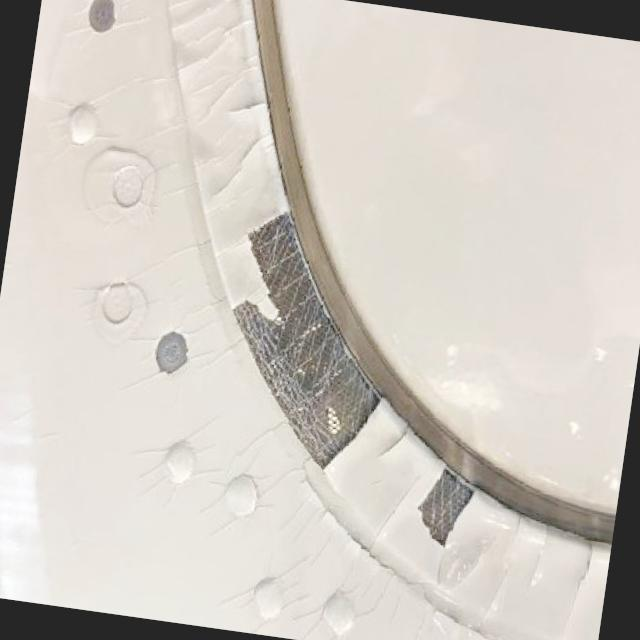crack: (371, 472, 418, 554), (382, 422, 409, 461), (233, 95, 266, 115)
